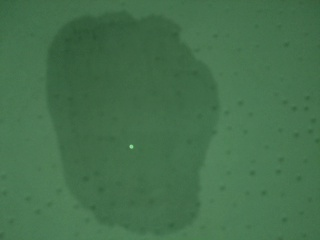Water_detected: (60, 37, 194, 202)
